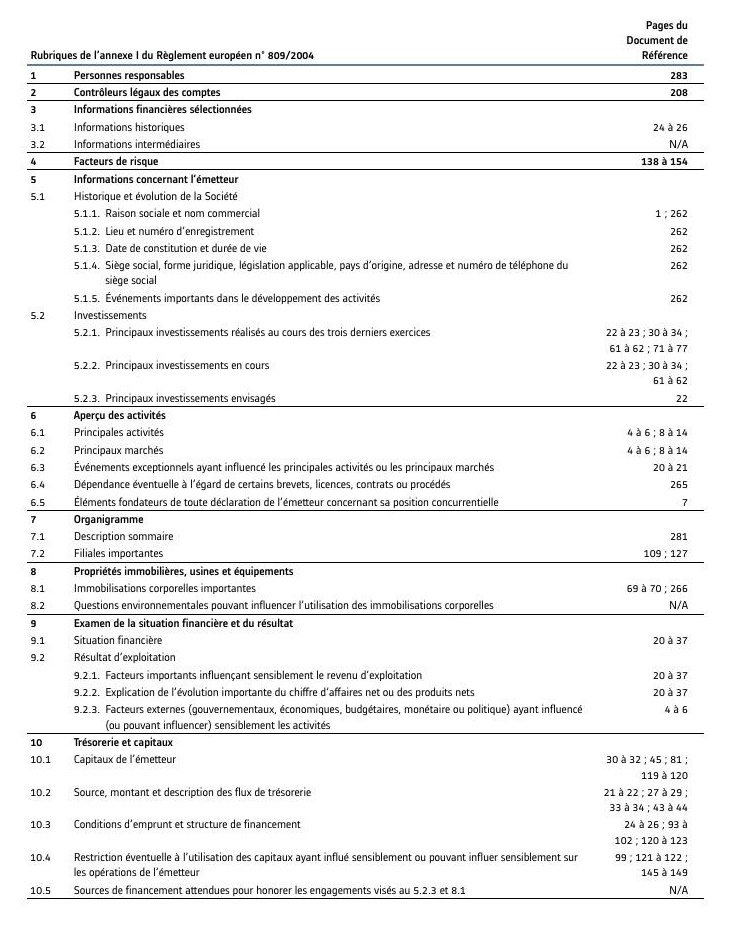table: (0, 0, 730, 928)
